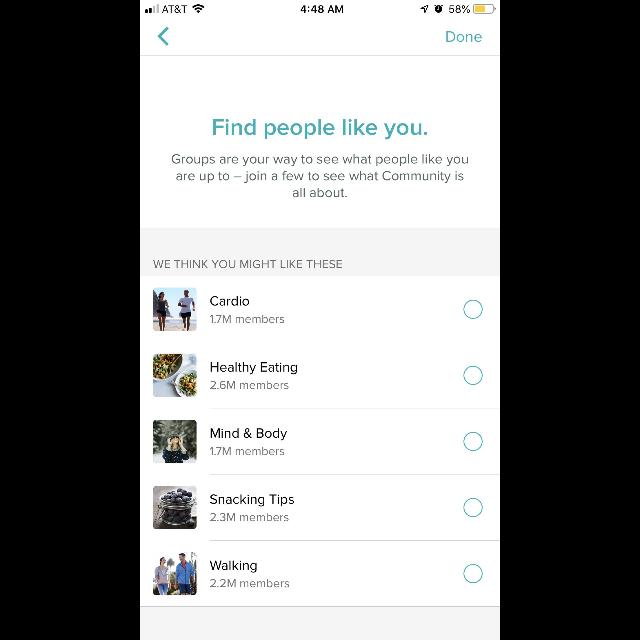checkbox: (463, 564, 482, 584), (463, 301, 483, 319), (463, 366, 483, 384), (463, 432, 483, 450), (463, 498, 483, 516)
icon: (157, 27, 169, 46)
image: (153, 353, 197, 397), (153, 419, 197, 463), (153, 486, 197, 530), (153, 552, 197, 596), (153, 288, 197, 330)
text: (172, 154, 468, 198), (213, 119, 427, 139), (154, 260, 342, 268), (211, 504, 289, 522), (211, 362, 297, 374), (210, 494, 294, 506), (210, 428, 288, 440), (210, 578, 290, 588), (210, 380, 288, 390), (210, 314, 284, 324), (210, 446, 284, 456), (210, 561, 256, 573), (446, 30, 482, 42), (210, 296, 250, 306)
uppertaskbar: (140, 0, 500, 14)
